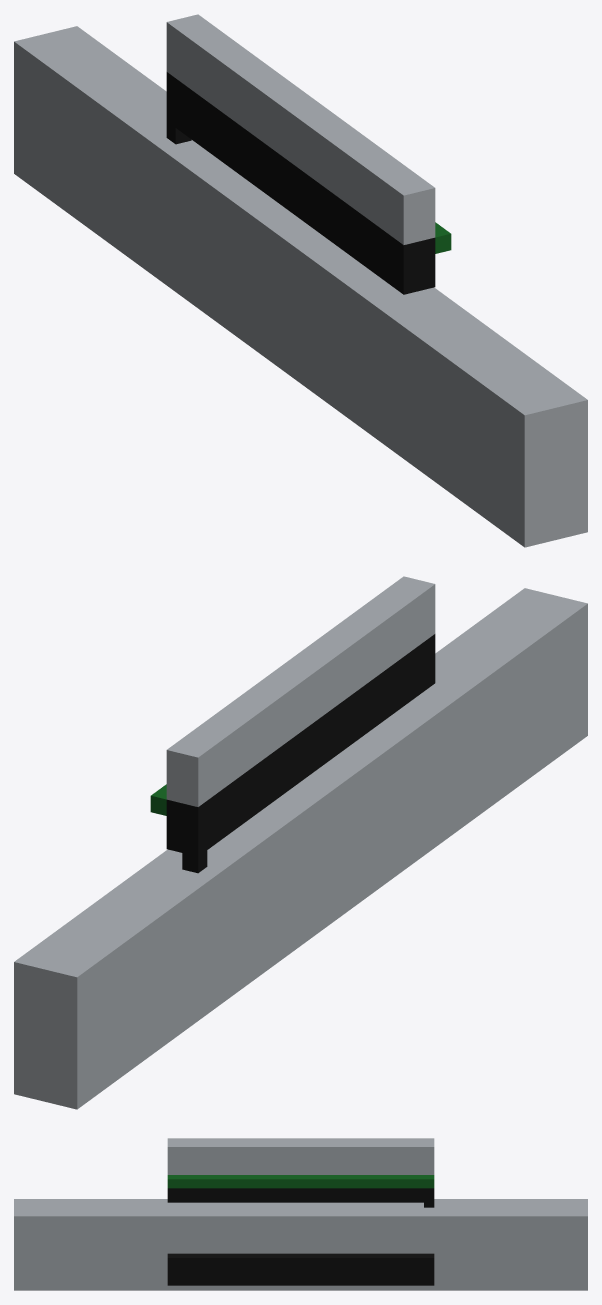
File: hybrid_saloon_front_bumper.glb
The picture shows the model from 3 angles, top to bottom: view 1: azimuth 30°, elevation 25°; view 2: azimuth 150°, elevation 25°; view 3: azimuth 270°, elevation 25°; orthographic projection. The views are drawn at different scales.
Visible parts, largest first — view 1: body:compound; view 2: body:compound; view 3: body:compound.
Part boxes in pixels (x1,y1,x2,y2): body:compound: (14, 14, 587, 547); body:compound: (14, 576, 587, 1109); body:compound: (14, 1138, 587, 1290).
Bounding box in the file's own units: 0.1562 × 0.4688 × 1.75.
